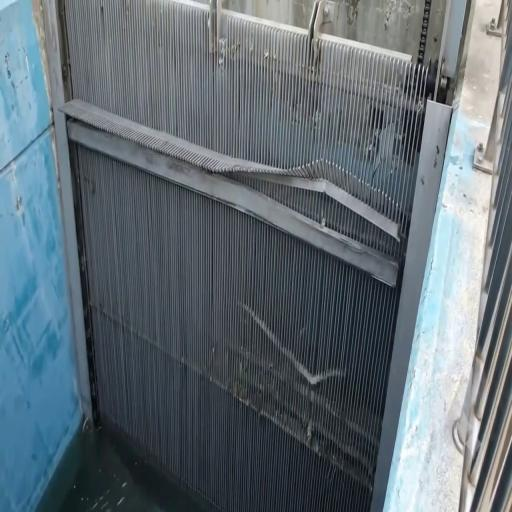rake_broken: (170, 144, 406, 252)
